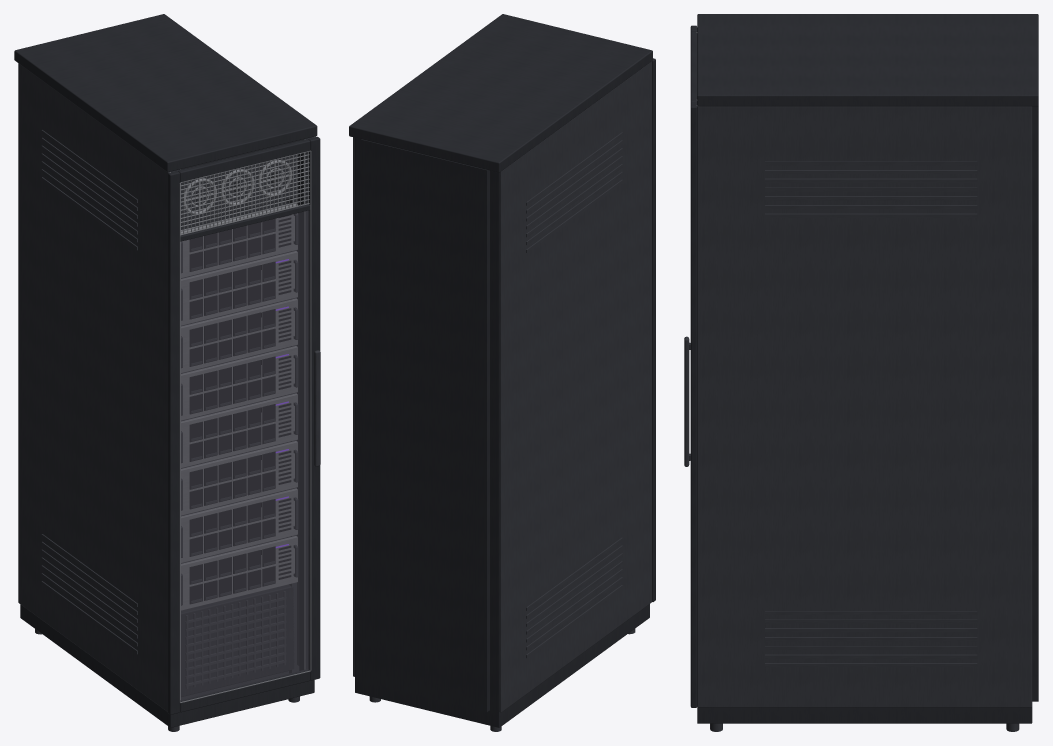
The model's file is render_rack.glb.
The picture shows the model from 3 angles, left to right: view 1: azimuth 30°, elevation 25°; view 2: azimuth 150°, elevation 25°; view 3: azimuth 270°, elevation 25°; orthographic projection. The views are drawn at different scales.
Visible parts, largest first — view 1: side_r_alloy_dark_0, pane_glass_tint_0, frame_graphite_0, door_graphite_0, door_steel_brushed_1, side_r_alloy_dark_1, frame_alloy_dark_1, blade_4_plastic_dark_2, blade_8_plastic_dark_2, blade_2_plastic_dark_2, blade_6_plastic_dark_2, blade_3_plastic_dark_2 (+26 smaller); view 2: frame_graphite_0, side_r_alloy_dark_0, side_r_alloy_dark_1, door_graphite_0, side_l_alloy_dark_0; view 3: side_l_alloy_dark_0, frame_graphite_0, side_l_alloy_dark_1, door_graphite_0, door_alloy_dark_2.
Boxes of the visible parts, box(x1,y1,x2,y2) form: side_r_alloy_dark_0: box(18, 63, 170, 711); pane_glass_tint_0: box(180, 210, 309, 700); frame_graphite_0: box(14, 14, 317, 727); door_graphite_0: box(168, 136, 320, 714); door_steel_brushed_1: box(179, 150, 311, 702); side_r_alloy_dark_1: box(41, 130, 137, 654); frame_alloy_dark_1: box(35, 197, 299, 731); blade_4_plastic_dark_2: box(189, 356, 291, 414); blade_8_plastic_dark_2: box(189, 545, 291, 604); blade_2_plastic_dark_2: box(189, 261, 291, 319); blade_6_plastic_dark_2: box(189, 451, 291, 509); blade_3_plastic_dark_2: box(189, 308, 291, 366); frame_graphite_0: box(349, 14, 652, 727); side_r_alloy_dark_0: box(499, 61, 651, 712); side_r_alloy_dark_1: box(526, 132, 622, 658); door_graphite_0: box(652, 58, 655, 601); side_l_alloy_dark_0: box(353, 137, 354, 676); side_l_alloy_dark_0: box(697, 106, 1032, 707); frame_graphite_0: box(697, 14, 1038, 723); side_l_alloy_dark_1: box(765, 161, 977, 667); door_graphite_0: box(690, 25, 697, 707); door_alloy_dark_2: box(684, 336, 690, 466).
Size of what is drawn, in the model's own units: 0.6 by 2.2 by 1.1.
Materials: 11 (5 with a texture image).
